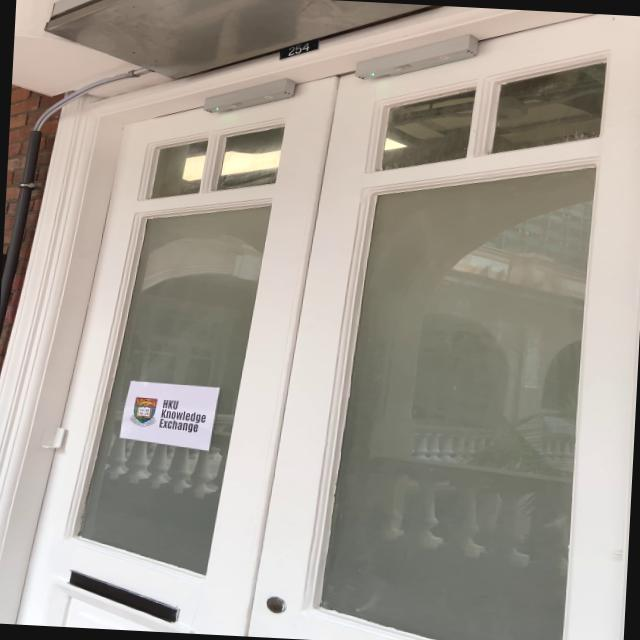room254: (276, 37, 320, 63)
